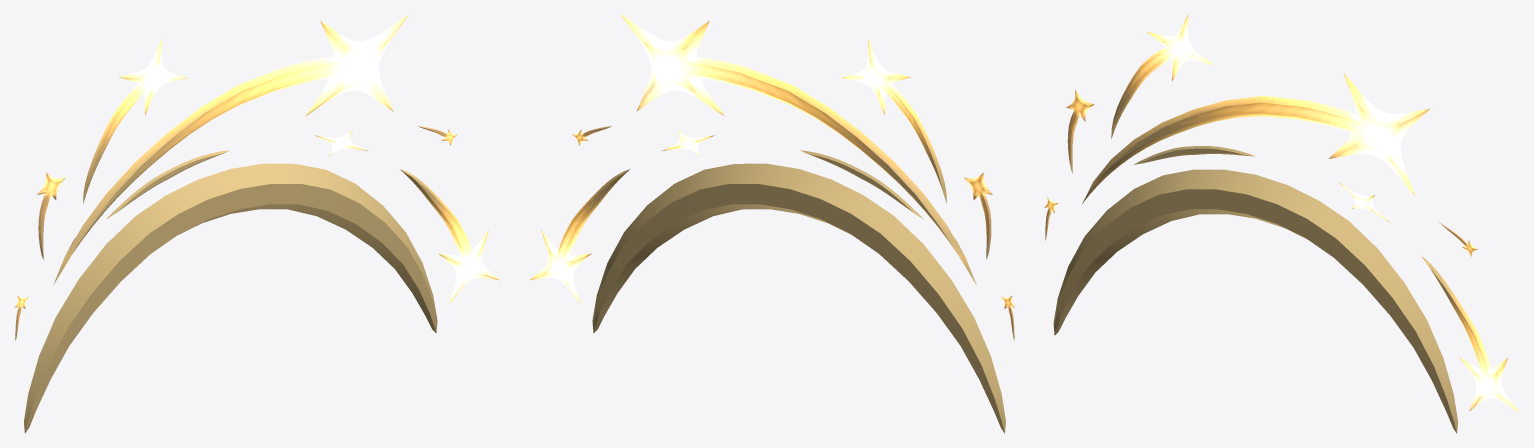
Rendered from Daydream Arc.fbx.
3 renders of one model, left to right at view 1: azimuth 30°, elevation 25°; view 2: azimuth 150°, elevation 25°; view 3: azimuth 330°, elevation 25°, orthographic. The views are drawn at different scales.
Visible parts, largest first — view 1: Daydream Arc; view 2: Daydream Arc; view 3: Daydream Arc.
Boxes of the visible parts, box(x1,y1,x2,y2) form: Daydream Arc: box(14, 14, 499, 433); Daydream Arc: box(530, 14, 1015, 433); Daydream Arc: box(1044, 14, 1518, 433).
Bounding box in the file's own units: 0.1998 × 0.1422 × 0.0135.
